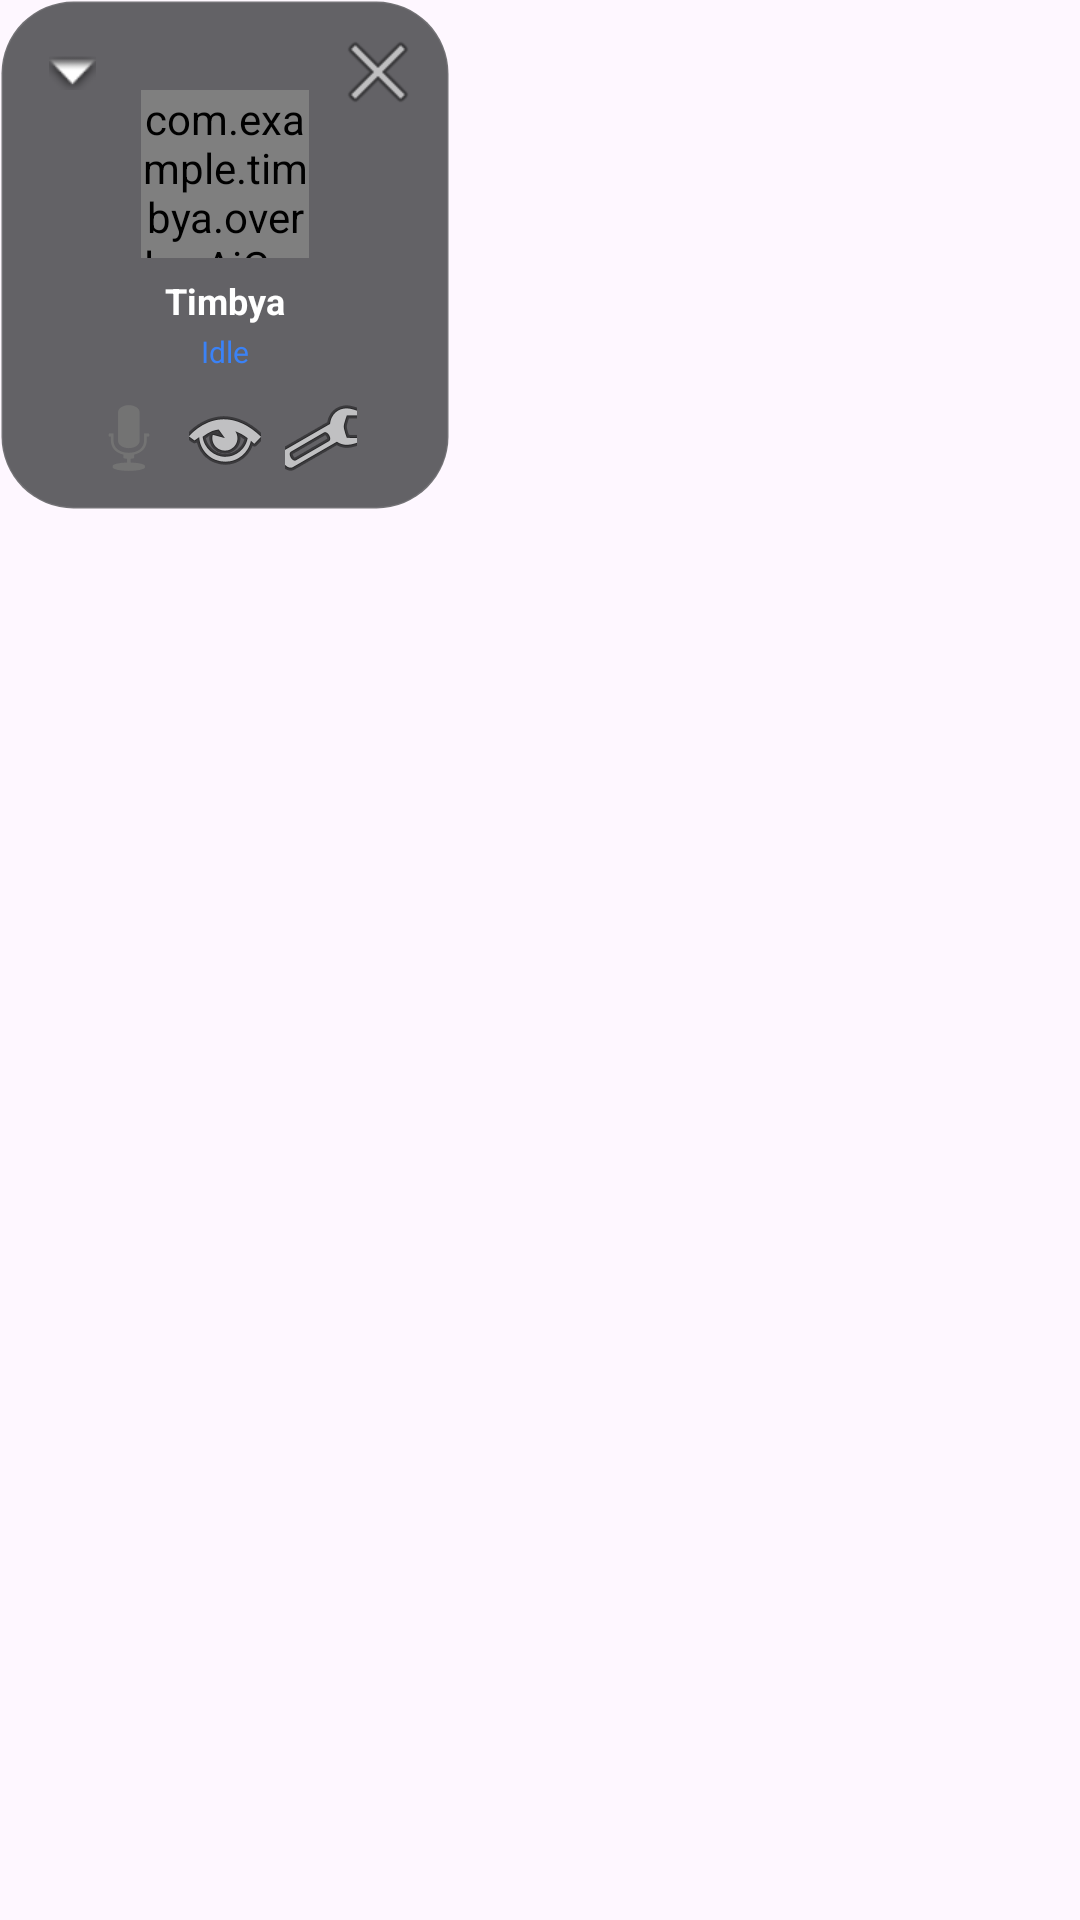

Icons on this 1080w x 1920h Android screen, each with the point to tap as (x,y):
Close: (378,72)
Read and summarize current screen: (225,440)
Shrink: (72,73)
